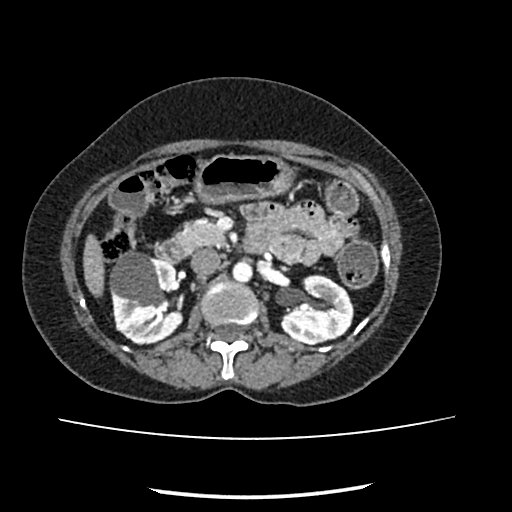aorta: (231, 259, 253, 283)
